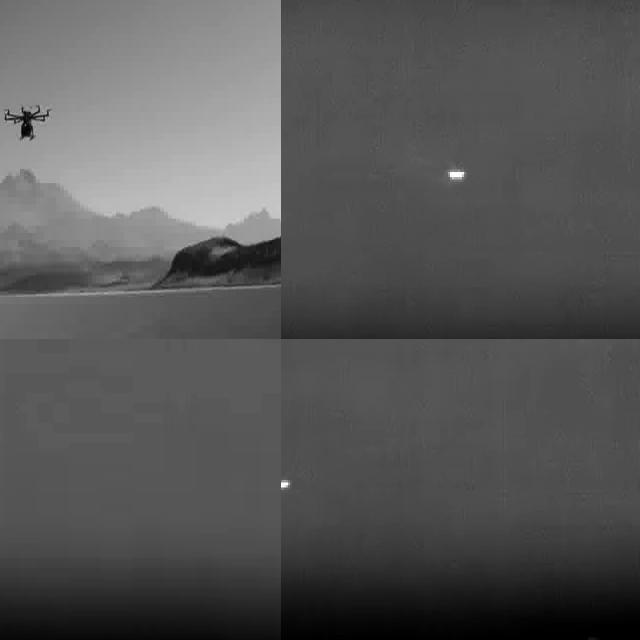1: (439, 163, 475, 193), (281, 472, 303, 502)
drone: (2, 99, 53, 148)
